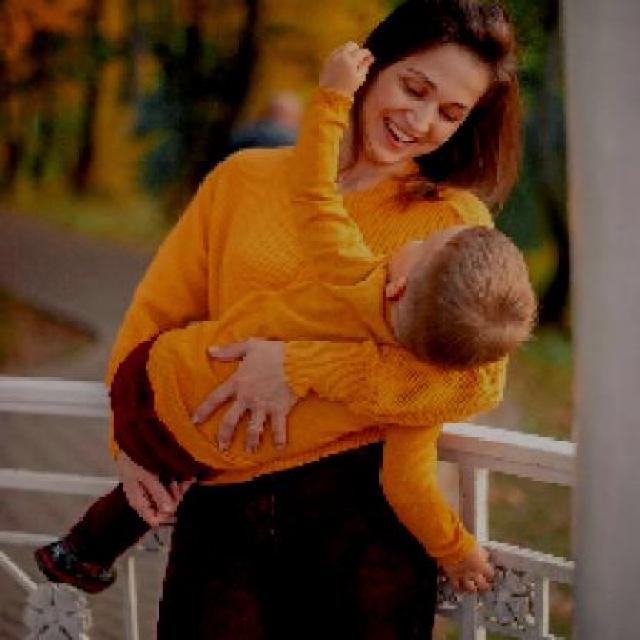child: (31, 39, 538, 595)
